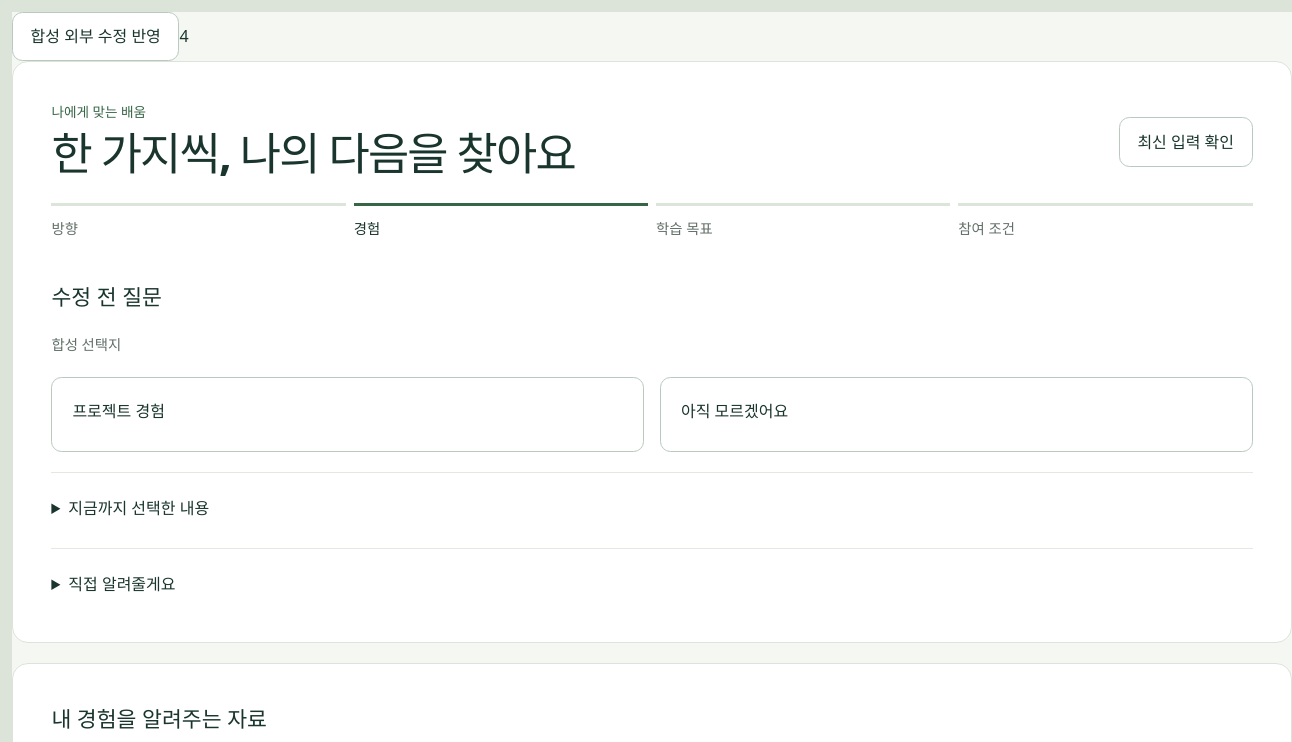
Test case: 이전 답변 수정·입력 보존 › 서버가 자료 단계를 반환하면 새 질문을 요청하라고 안내하지 않는다
Expected: the heading "수정 전 질문" is shown, [51, 282, 162, 311]
Click the heading "지금까지 선택한 내용".
click(139, 508)  # box [68, 497, 209, 519]
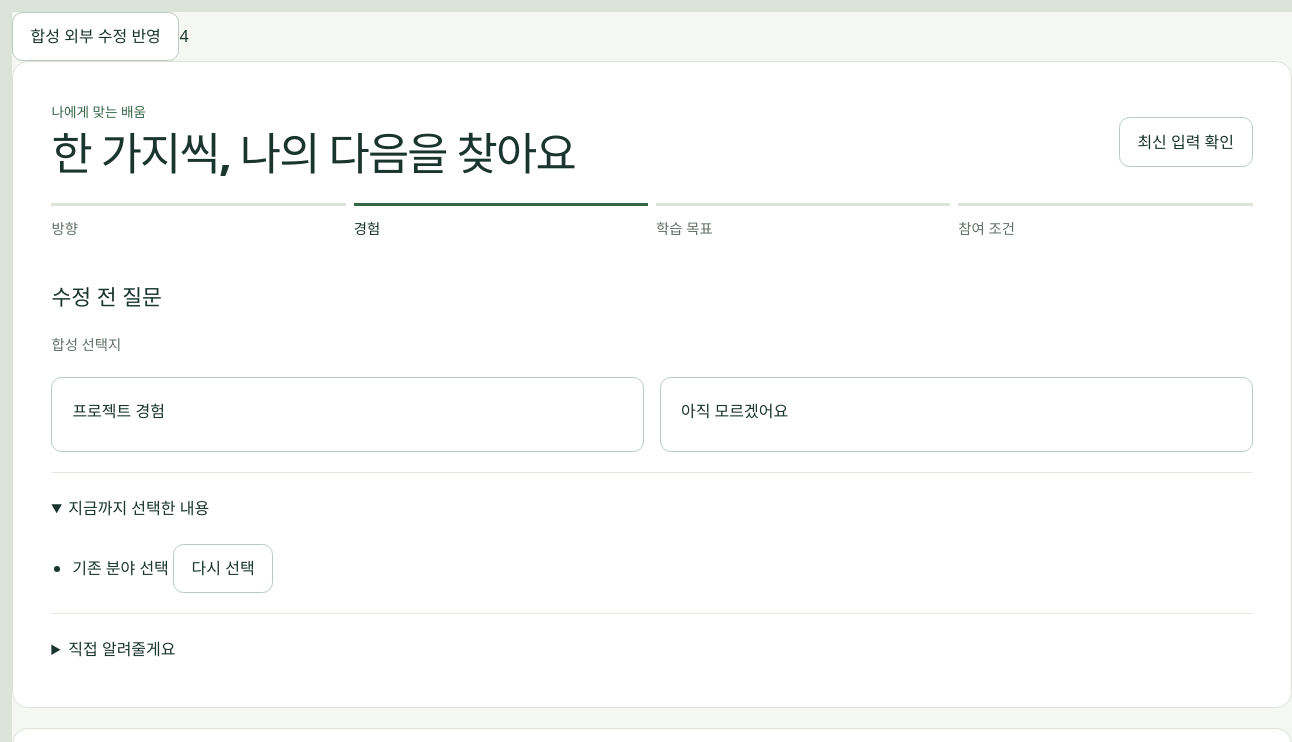
Click the button "다시 선택".
click(223, 568)  # box [173, 544, 273, 593]
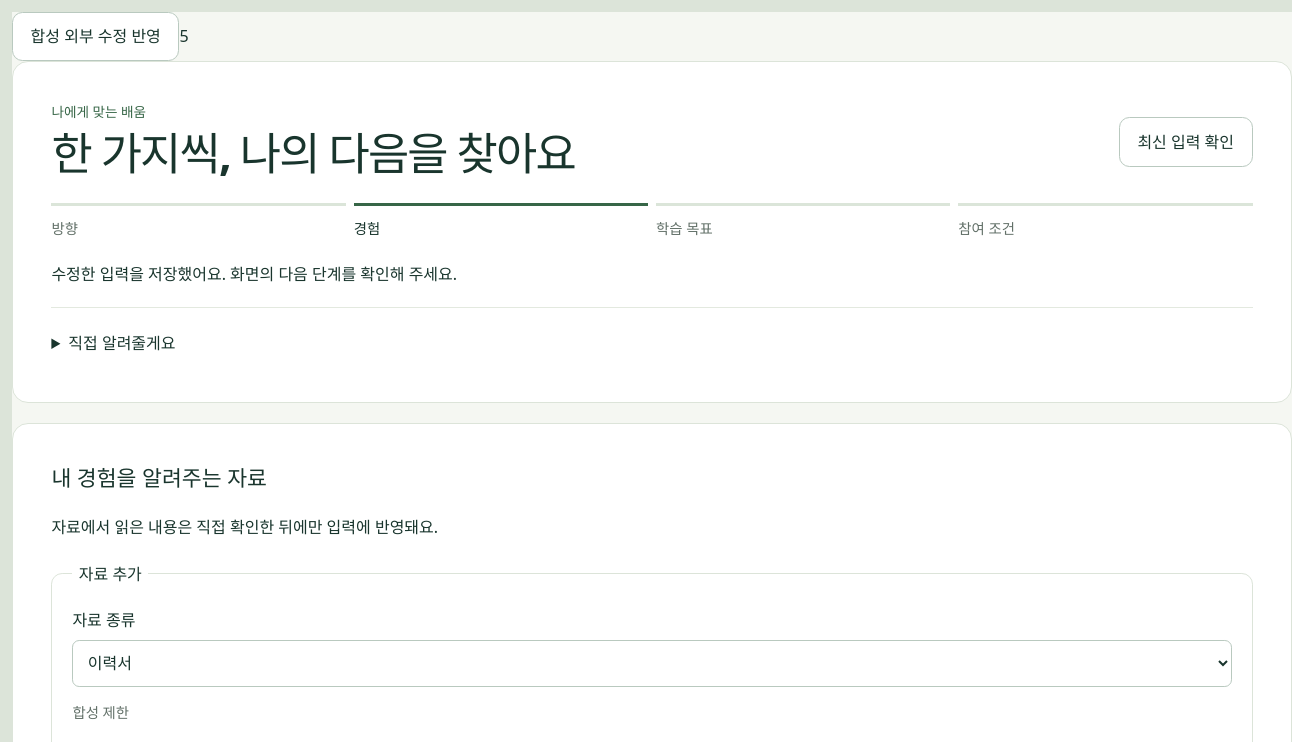
Expected: the text "수정한 입력을 저장했어요. 화면의 다음 단계를 확인해 주세요." is shown, [51, 263, 457, 285]
